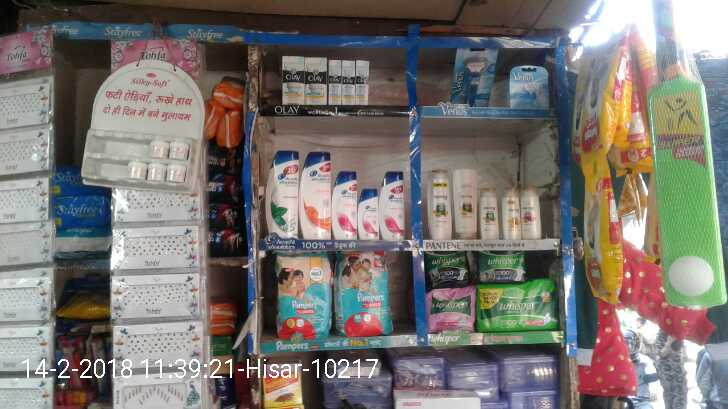venus: (455, 45, 497, 105), (505, 62, 551, 106)
